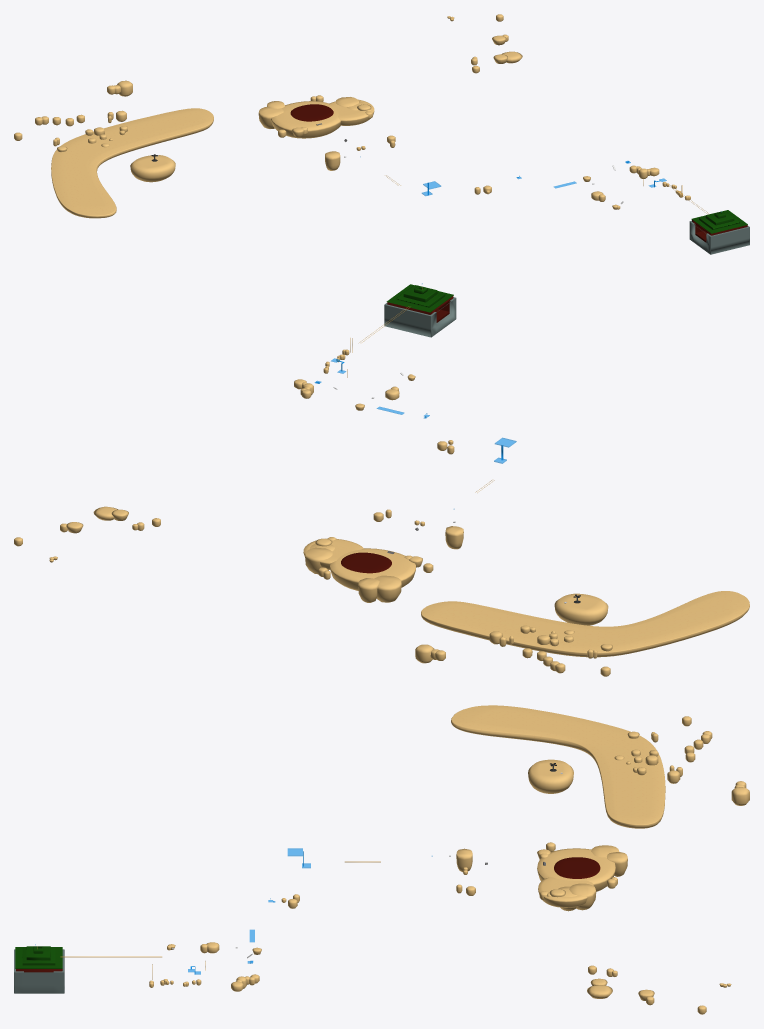
The model's file is Level6LowCombined.fbx.
3 views of the same model, one above another, from view 1: azimuth 30°, elevation 25°; view 2: azimuth 150°, elevation 25°; view 3: azimuth 270°, elevation 25° (orthographic). The views are drawn at different scales.
Visible parts, largest first — view 1: Beach, Block28447, Block9316, Block28272, Block28360, Block9319; view 2: Beach, Block28447, Block9316, Block28272, Block28360; view 3: Beach, Block28447, Block9316, Block28272, Block28360, Block9319.
Part boxes in pixels (left/top/right/bottom): Beach: left=51, top=108, right=213, bottom=218; Block28447: left=271, top=99, right=374, bottom=138; Block9316: left=689, top=220, right=749, bottom=254; Block28272: left=130, top=155, right=175, bottom=182; Block28360: left=258, top=101, right=284, bottom=128; Block9319: left=699, top=211, right=739, bottom=229; Beach: left=421, top=591, right=749, bottom=657; Block28447: left=303, top=539, right=415, bottom=590; Block9316: left=384, top=296, right=456, bottom=337; Block28272: left=554, top=593, right=608, bottom=625; Block28360: left=358, top=575, right=401, bottom=602; Beach: left=451, top=705, right=665, bottom=828; Block28447: left=537, top=848, right=615, bottom=907; Block9316: left=14, top=949, right=64, bottom=993; Block28272: left=528, top=759, right=573, bottom=793; Block28360: left=591, top=845, right=627, bottom=876; Block9319: left=22, top=946, right=55, bottom=965.
Size of what is drawn, in the model's own units: 651 by 48.21 by 666.
